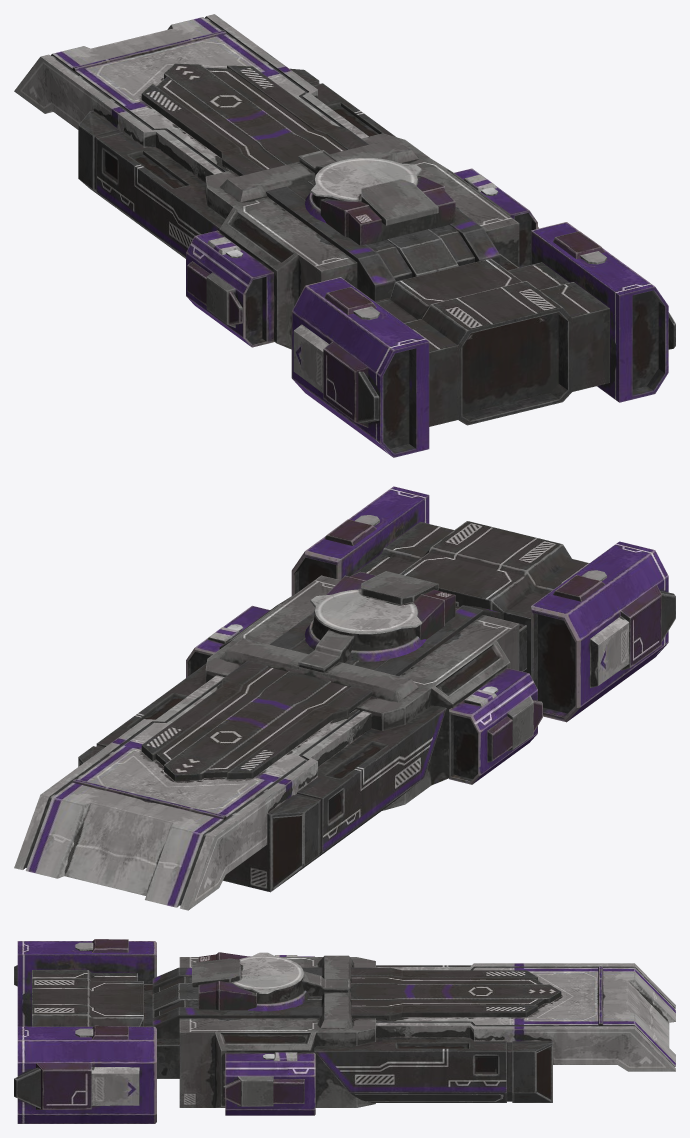
File: quaternius-imperial.glb
The picture shows the model from 3 angles, top to bottom: view 1: azimuth 30°, elevation 25°; view 2: azimuth 150°, elevation 25°; view 3: azimuth 270°, elevation 25°; orthographic projection. The views are drawn at different scales.
Parts seen in each view (by area): view 1: Imperial; view 2: Imperial; view 3: Imperial.
Part boxes in pixels (x1,y1,x2,y2): Imperial: (14, 14, 675, 457); Imperial: (14, 486, 675, 910); Imperial: (14, 939, 675, 1123).
Size of the model in its own units: 7.73 by 3.3 by 18.55.
Materials: 1 (1 with a texture image).
